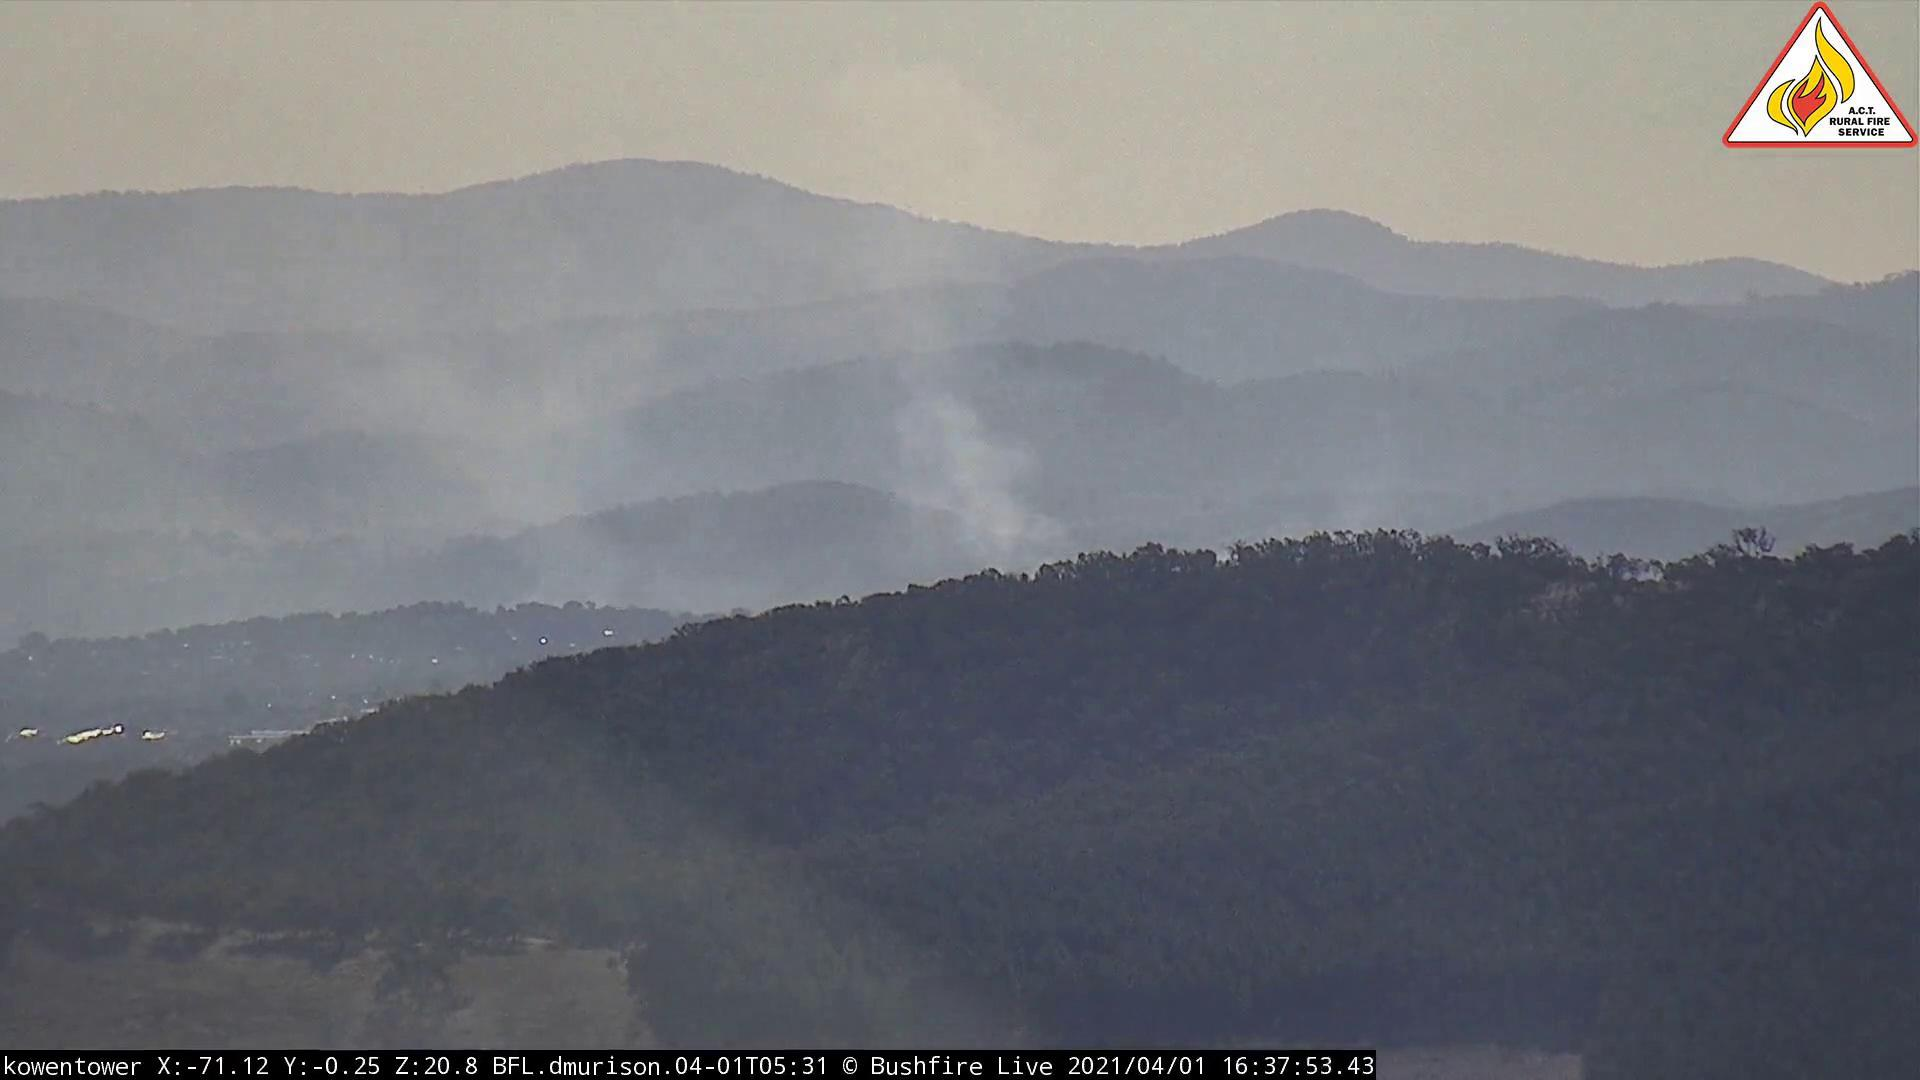instance_salient_object: (456, 281, 1127, 603)
